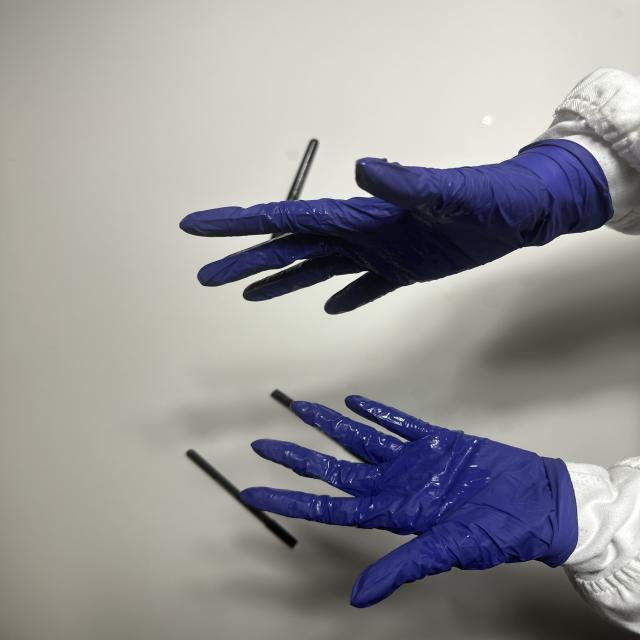gloves_contaminated: (180, 140, 612, 314), (242, 396, 578, 607)
